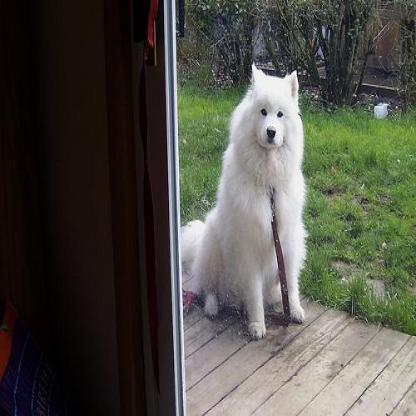Samoyed: (176, 64, 307, 338)
